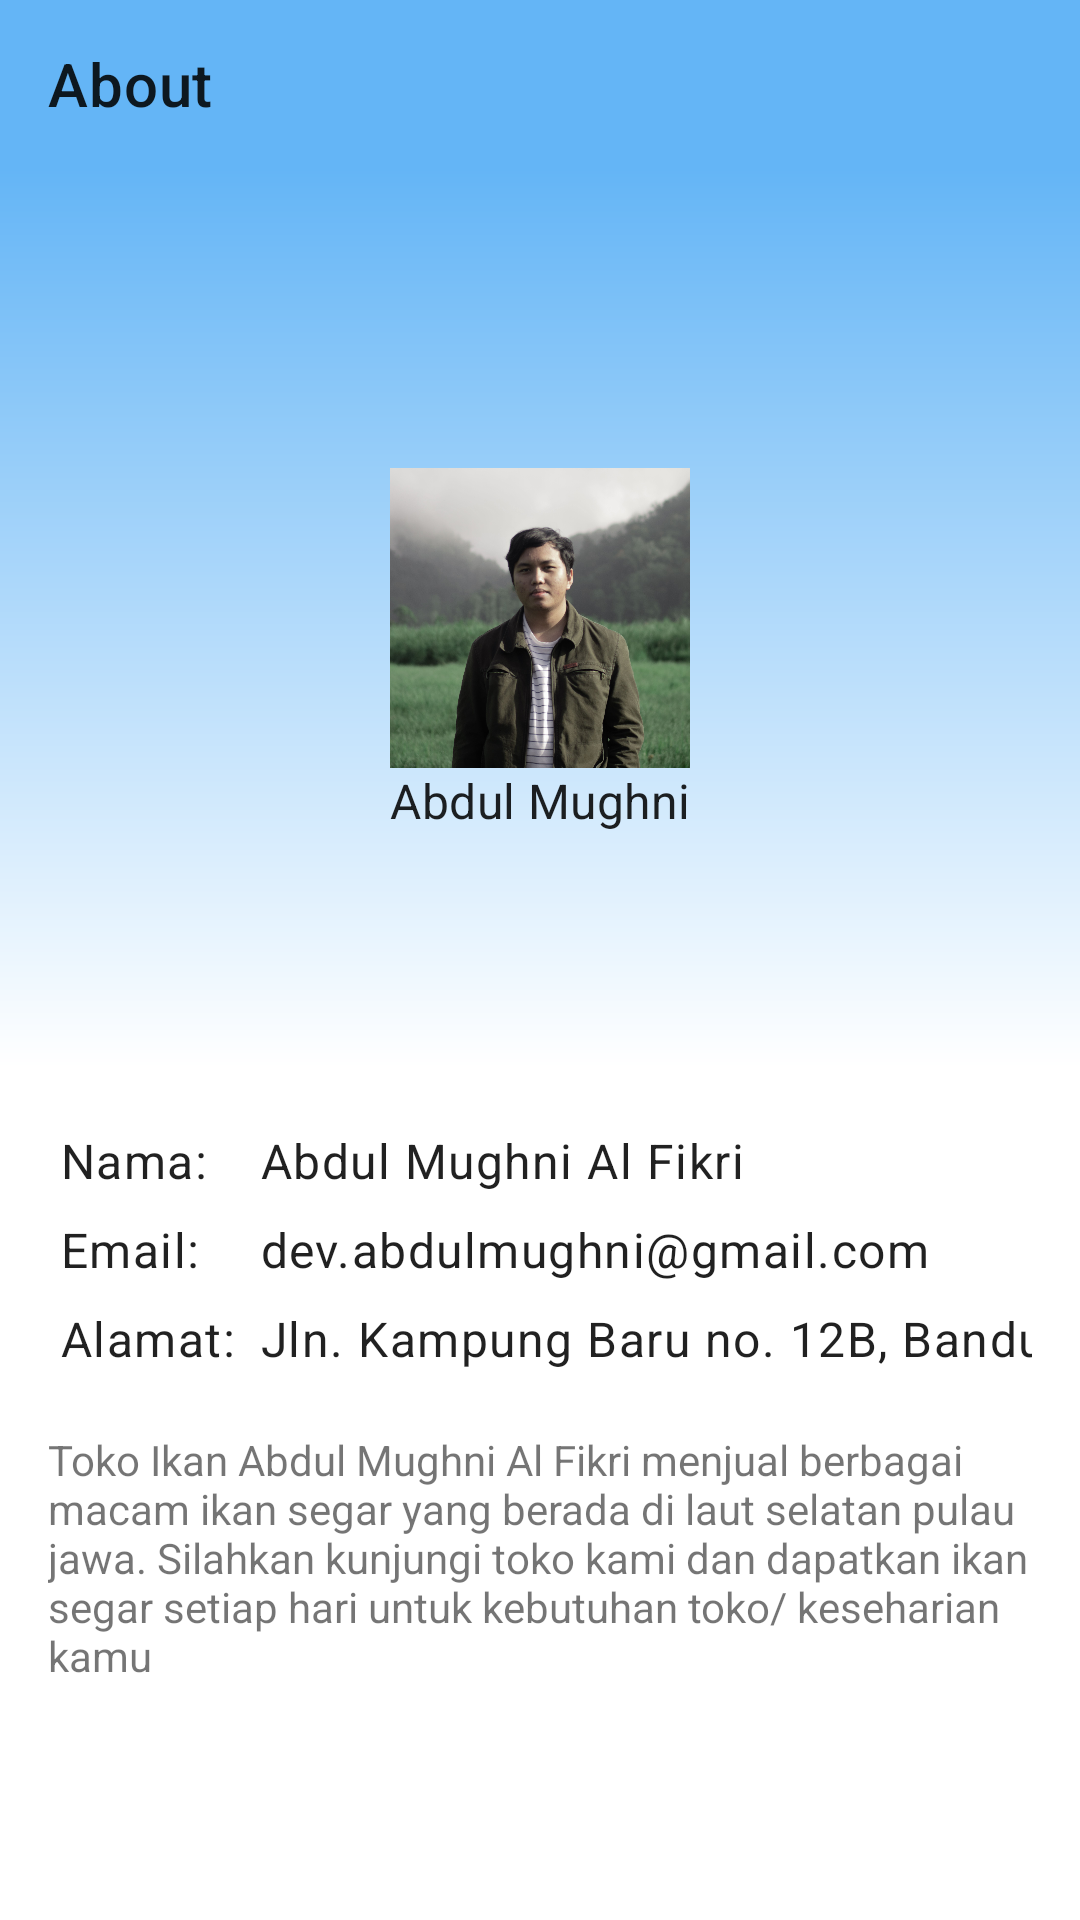

Icons on this 1080w x 1920h Android screen, each with the point to tap as (x,y):
user profile: (540,618)
